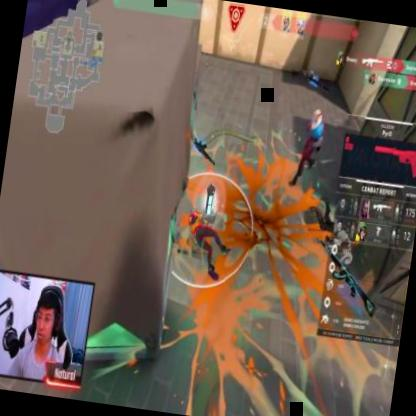enemy: (290, 106, 327, 192)
enemy_head: (312, 108, 322, 123)
